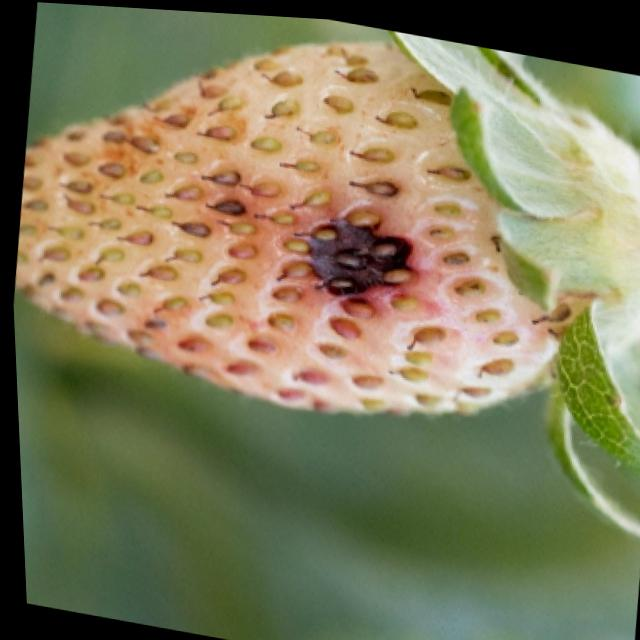Anthracnose Fruit Rot: (271, 171, 444, 320)
